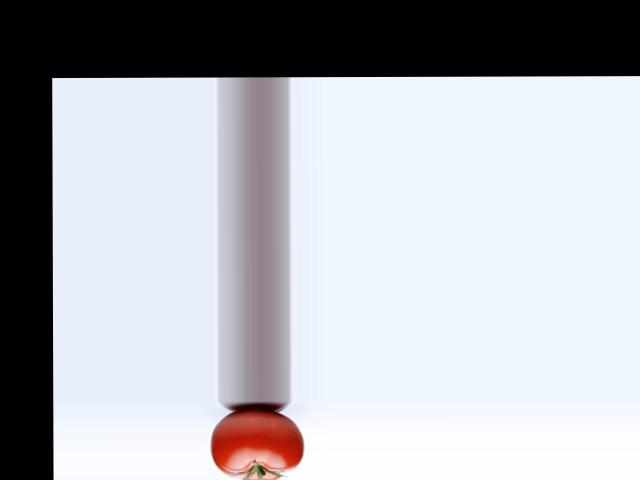tomato: (210, 409, 304, 480)
